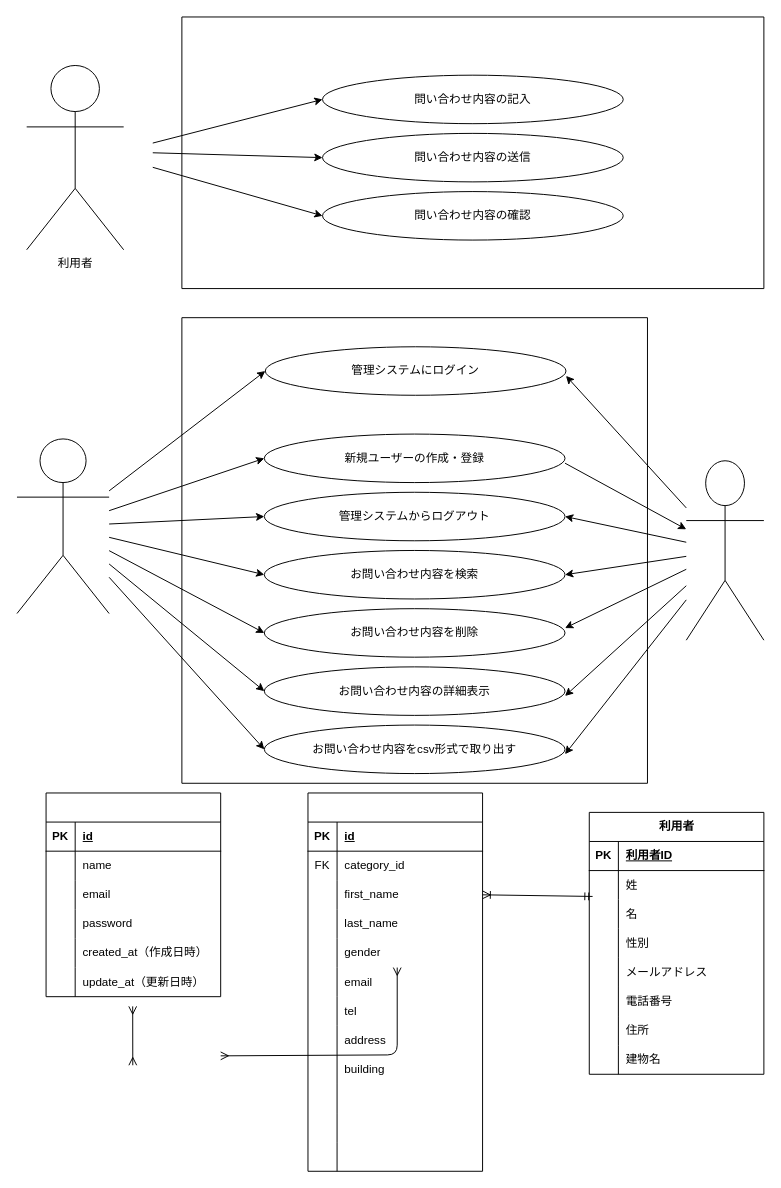
Some shapes in this 781 by 1188 pixel diagram are drawn without their labels. The shapes that lost their labels are listed below. From the top down, each one's box as (x1, y1, x2, y2) in pixels, then its label:
(181, 16, 764, 289): 問い合わせ送信システム
(16, 438, 109, 614): 管理者
(181, 317, 647, 783): 問い合わせ管理システム
(685, 460, 764, 640): 新規管理者
(45, 792, 221, 997): users
(307, 792, 483, 1171): contacts
